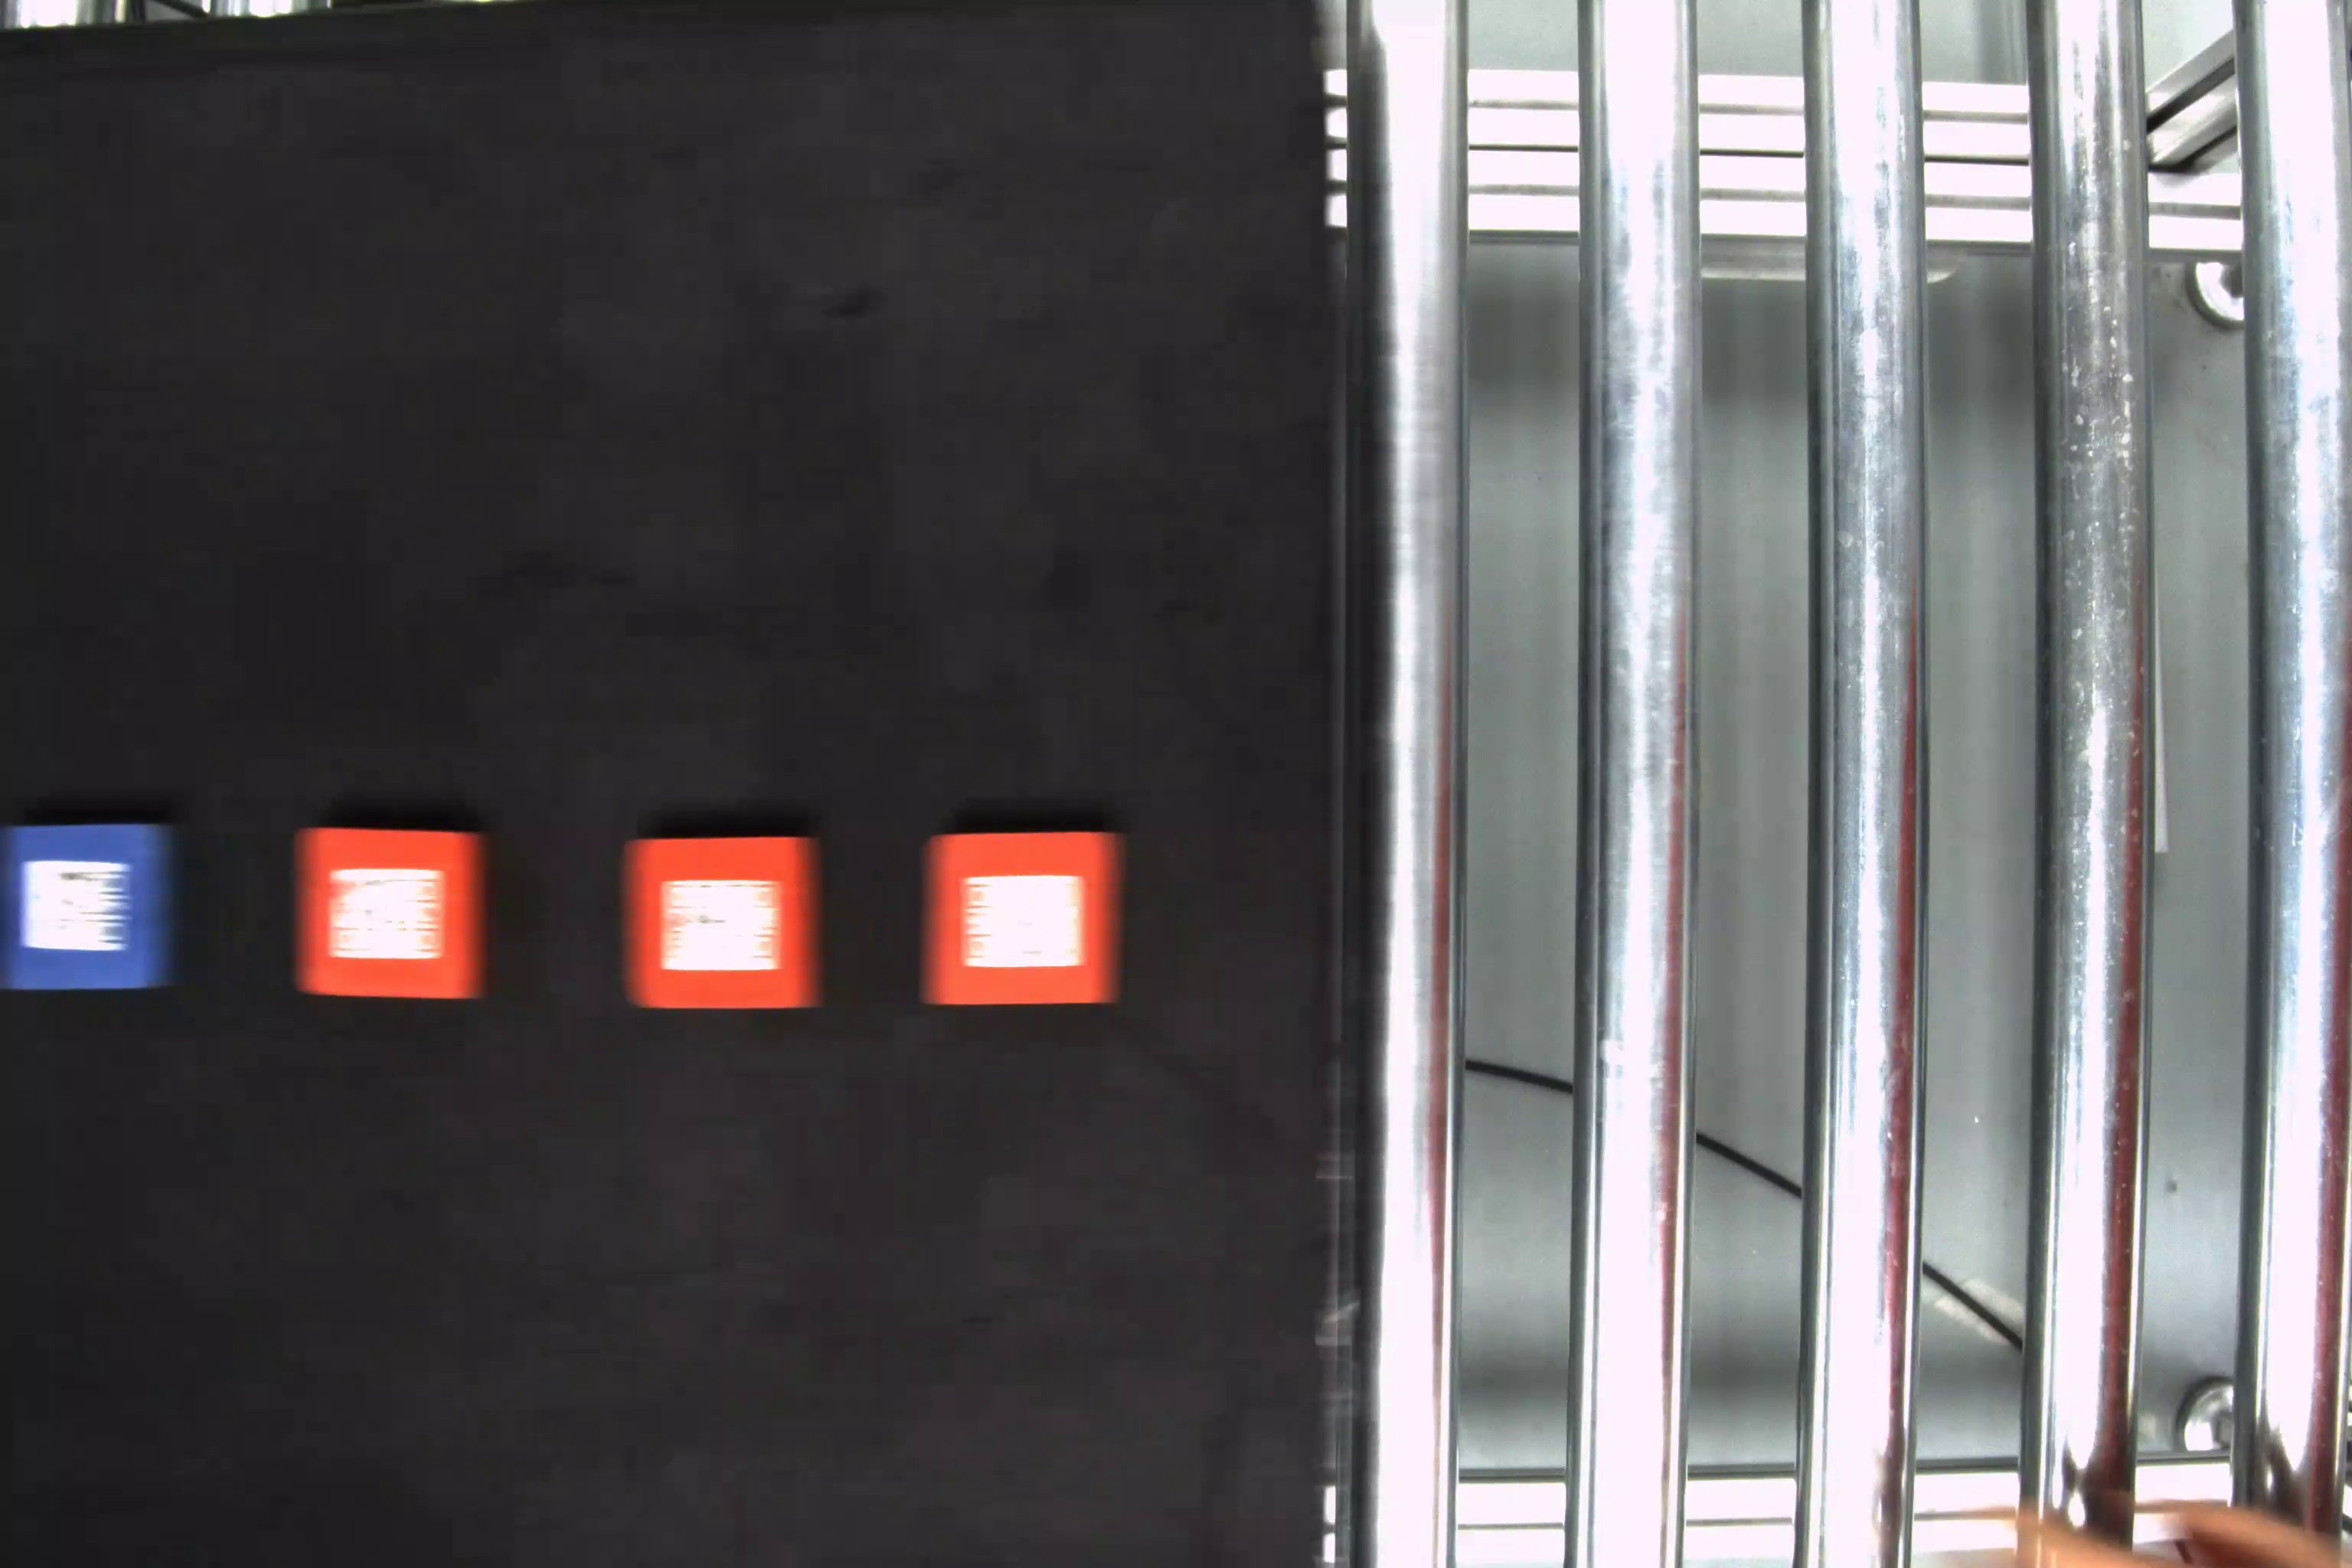wood: (919, 826, 1136, 1013), (290, 819, 493, 1003), (619, 836, 831, 1011), (5, 822, 187, 990)
